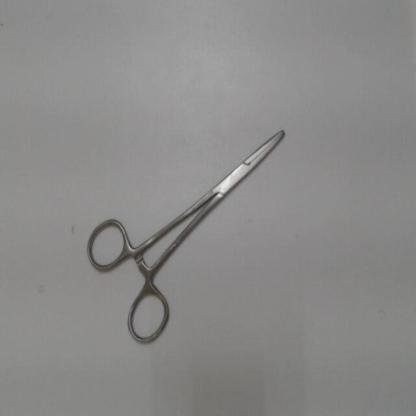Mayo Needle Holder: (81, 109, 304, 350)
